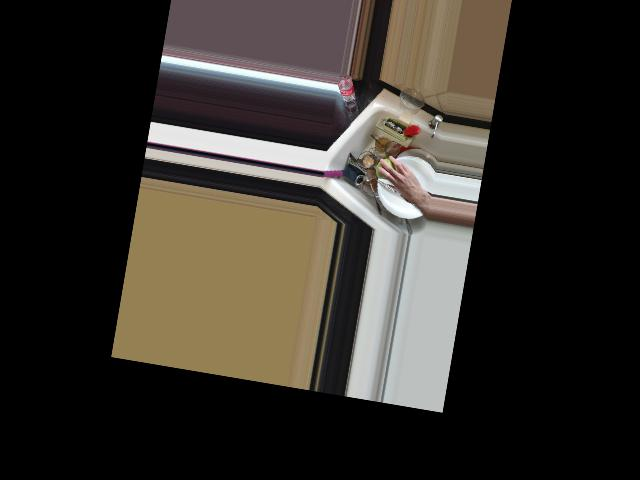apple: (374, 157, 400, 182)
